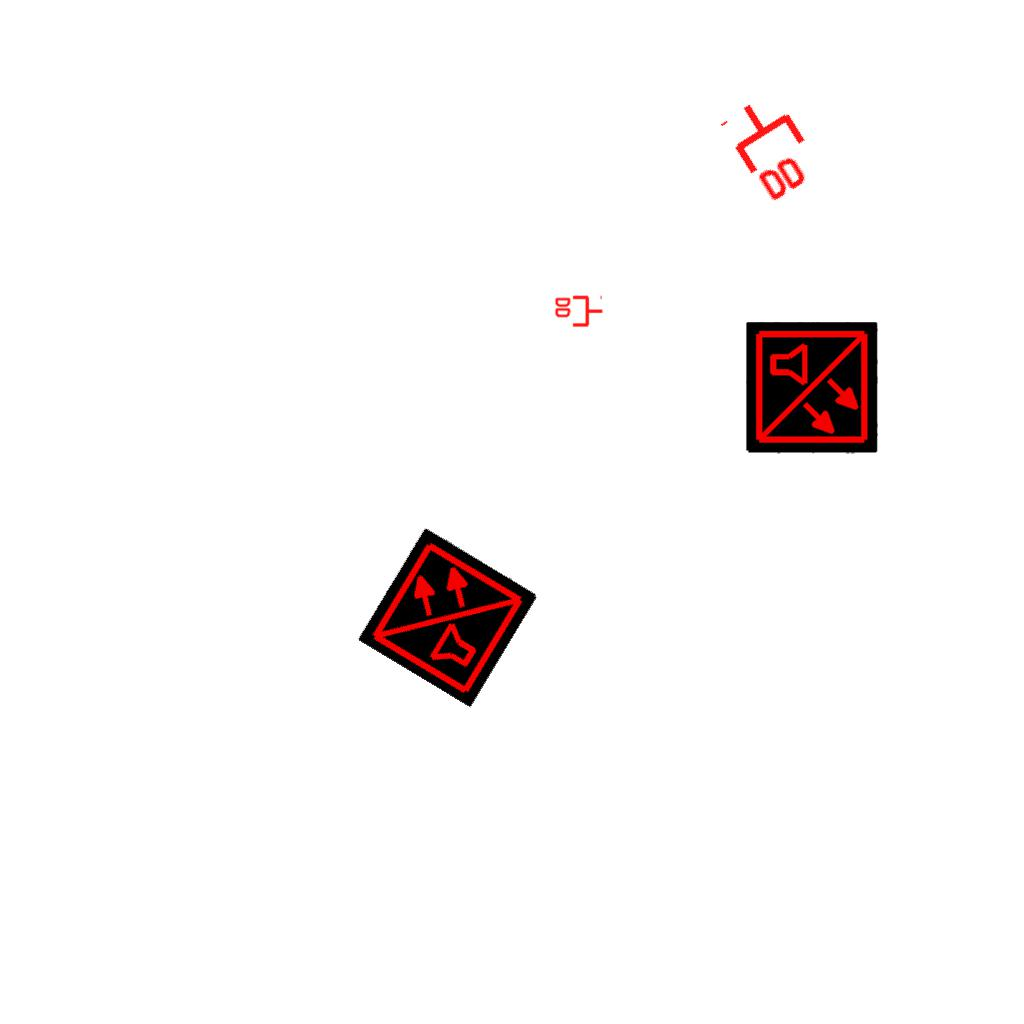Datenanschluss_zweifach: (716, 84, 831, 209), (553, 295, 604, 329)
OKW_Multisensormelder_(Kombination_optischer_Rauch-Kahlenmonoxid_Waerme-Melder): (357, 526, 539, 708), (746, 322, 878, 454)
